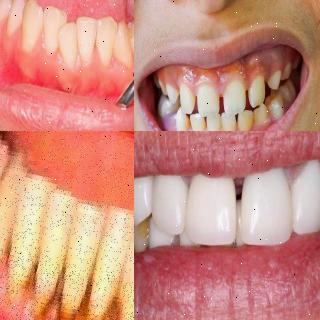calculus: (15, 261, 47, 303), (40, 267, 72, 307), (96, 291, 133, 320), (72, 282, 98, 320)
maligned: (56, 22, 80, 69)
stains: (134, 210, 152, 250)
